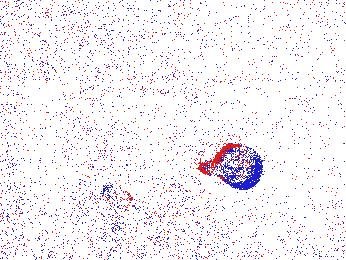flame jellyfish: (60, 191, 116, 241), (200, 144, 262, 187), (102, 185, 135, 227)
